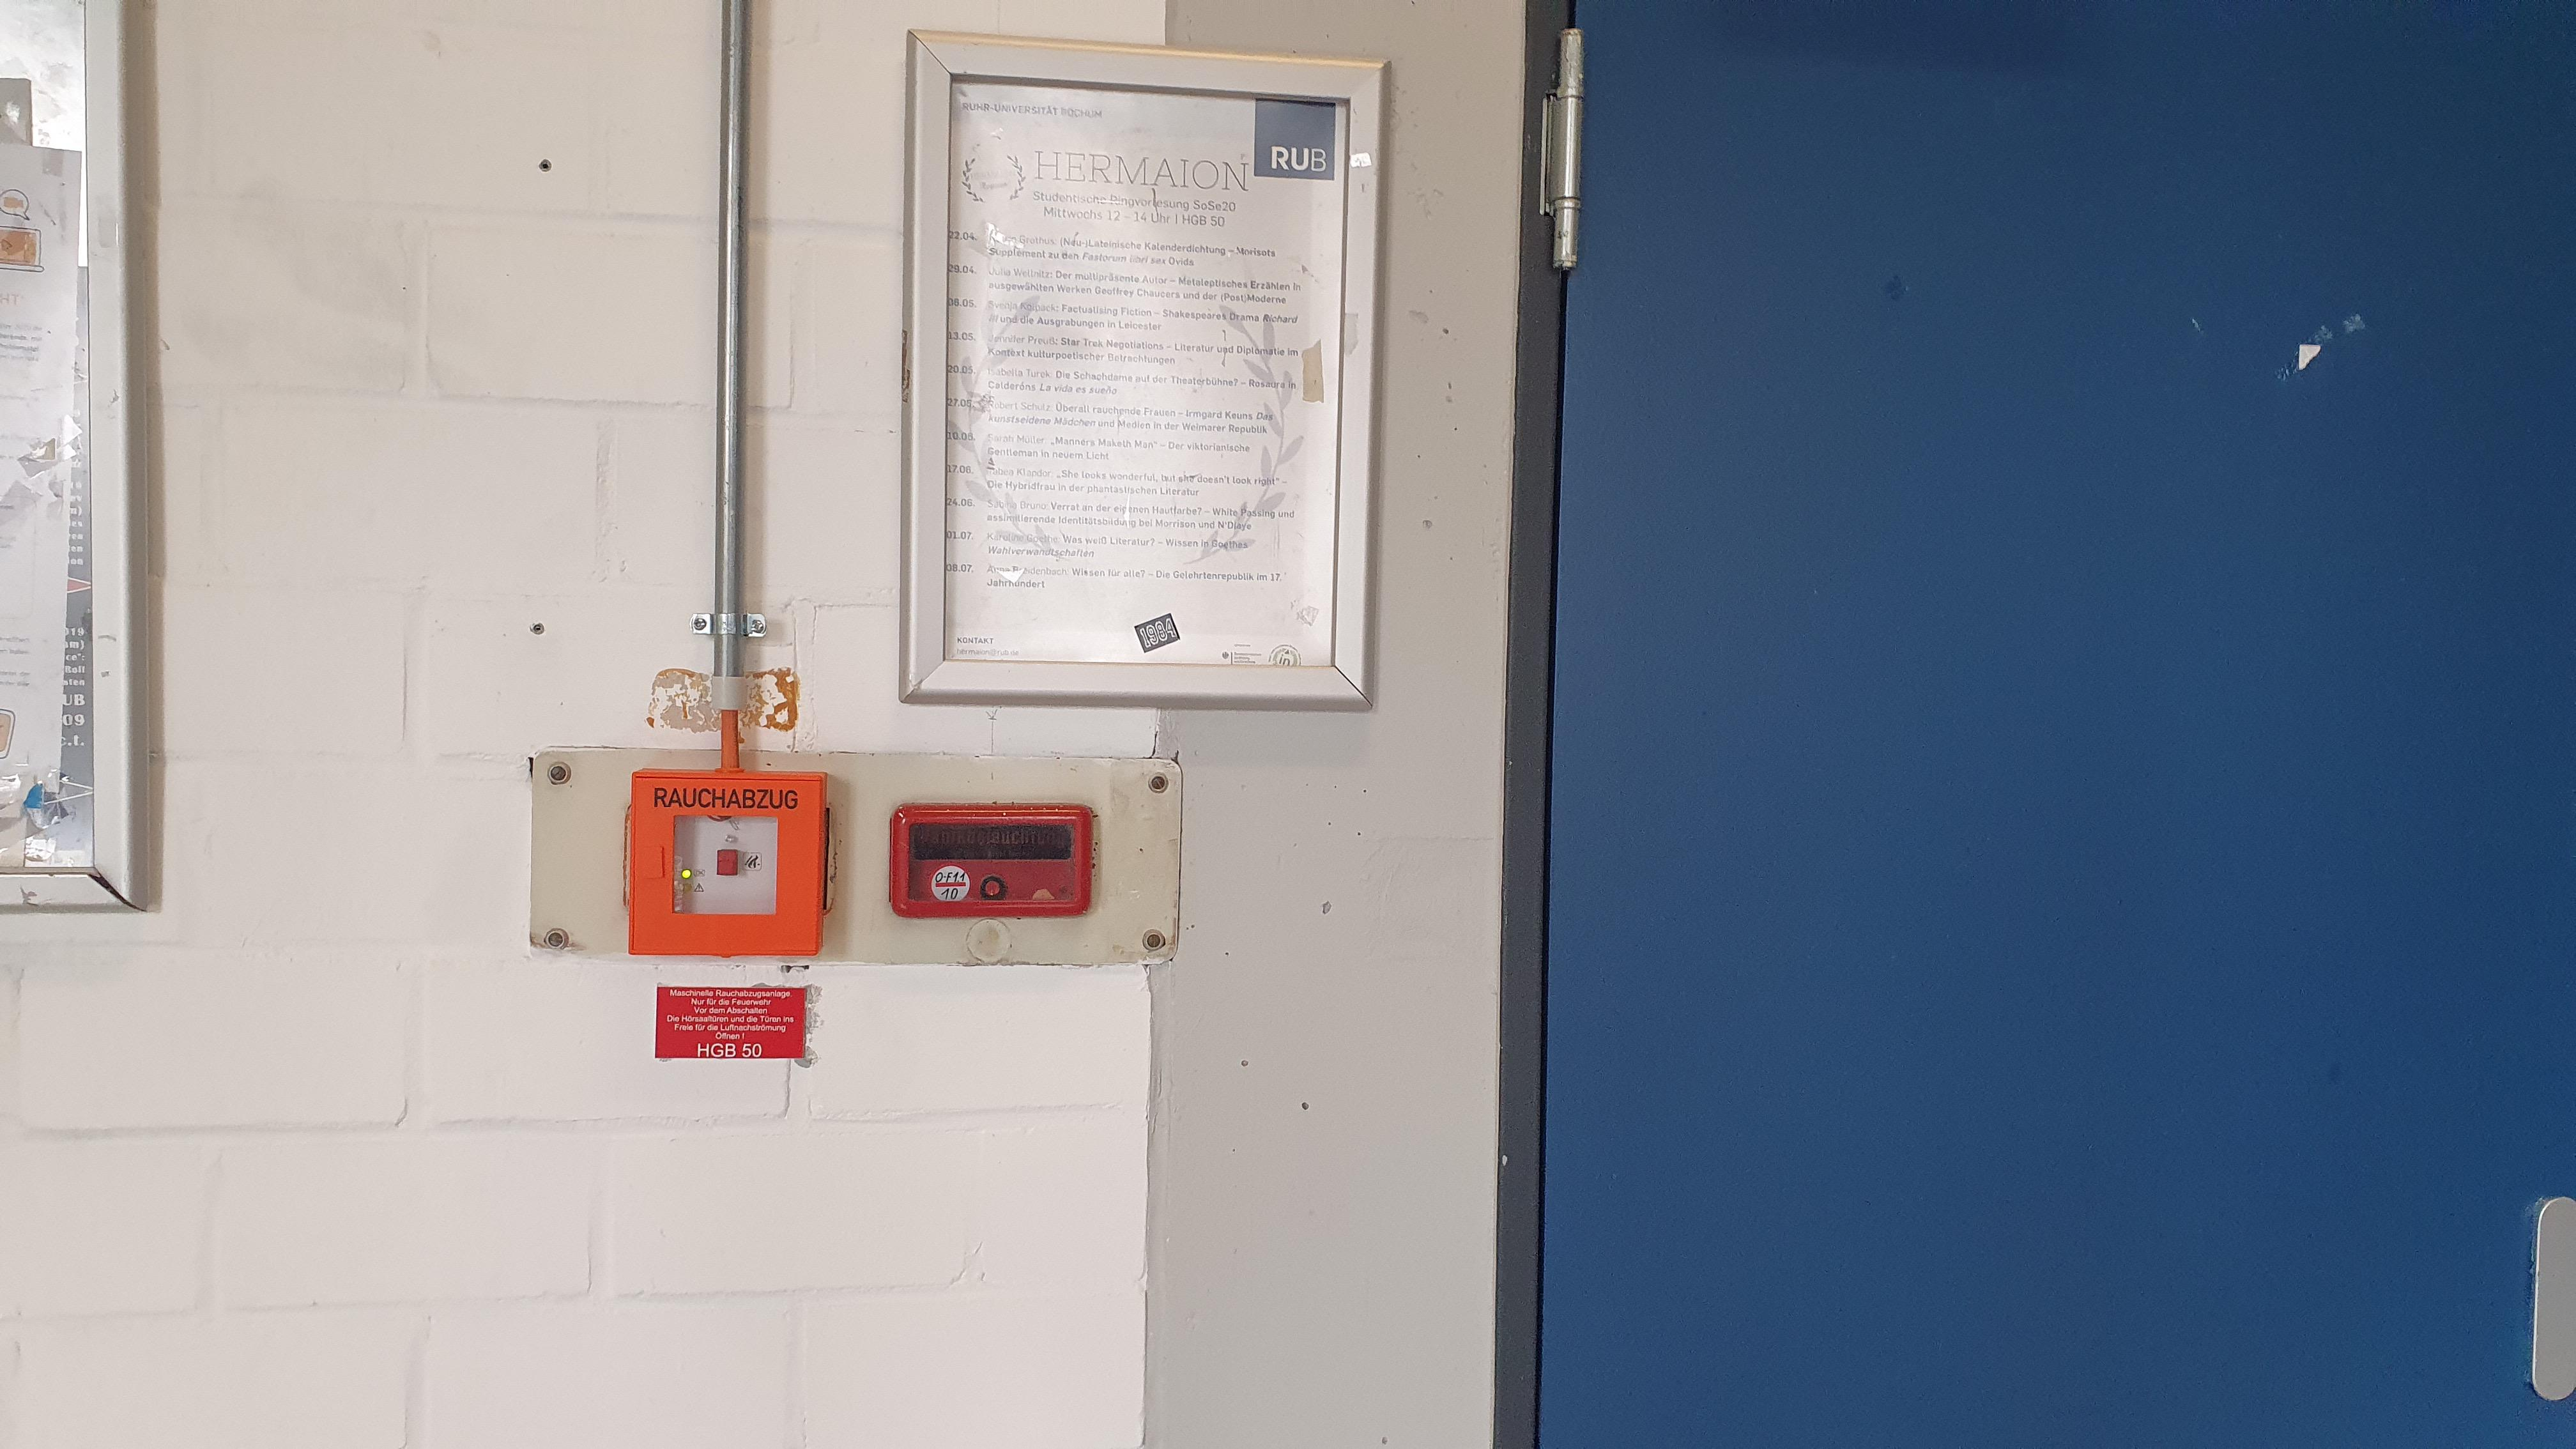call_point: (625, 768, 828, 957), (886, 803, 1095, 918)
